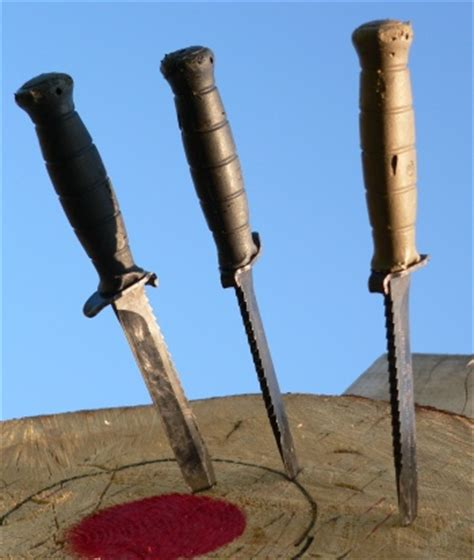knife: (11, 71, 218, 494), (153, 48, 307, 481), (352, 17, 430, 528)
